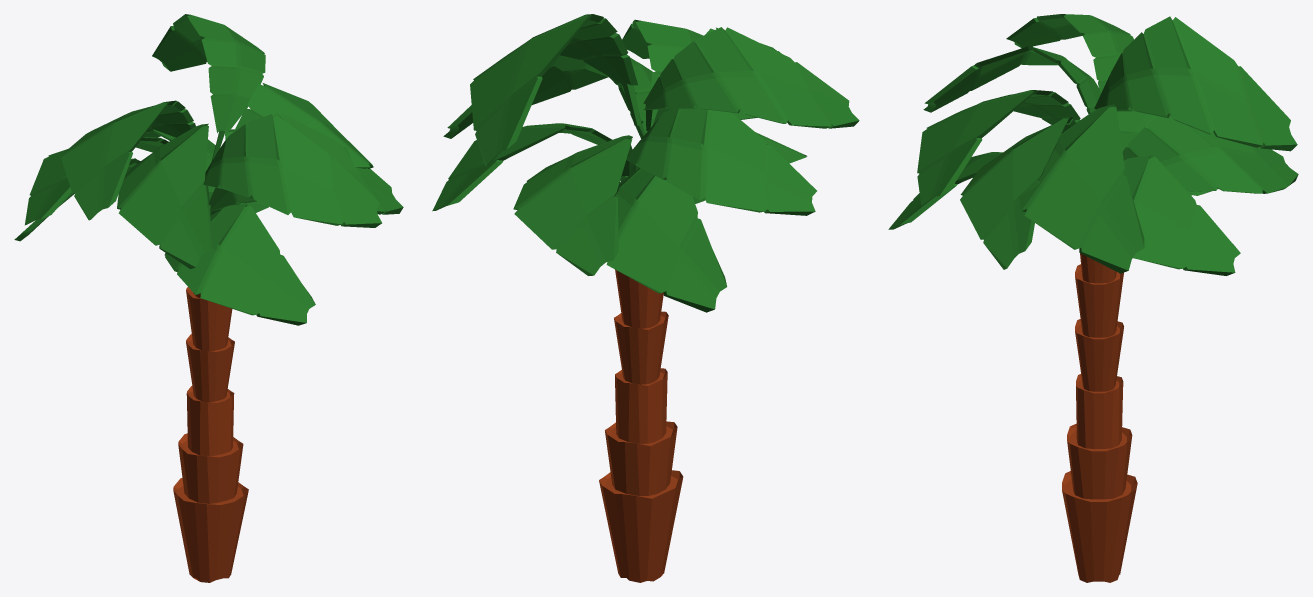
The model's file is BananaTree1.fbx.
3 renders of one model, left to right at view 1: azimuth 30°, elevation 25°; view 2: azimuth 150°, elevation 25°; view 3: azimuth 270°, elevation 25°, orthographic. The views are drawn at different scales.
Visible parts, largest first — view 1: Bananatree; view 2: Bananatree; view 3: Bananatree.
Boxes of the visible parts, left/top/right/bottom form: Bananatree: left=14, top=14, right=403, bottom=582; Bananatree: left=432, top=14, right=859, bottom=582; Bananatree: left=888, top=14, right=1298, bottom=582.
Bounding box in the file's own units: 585 × 879 × 579.
